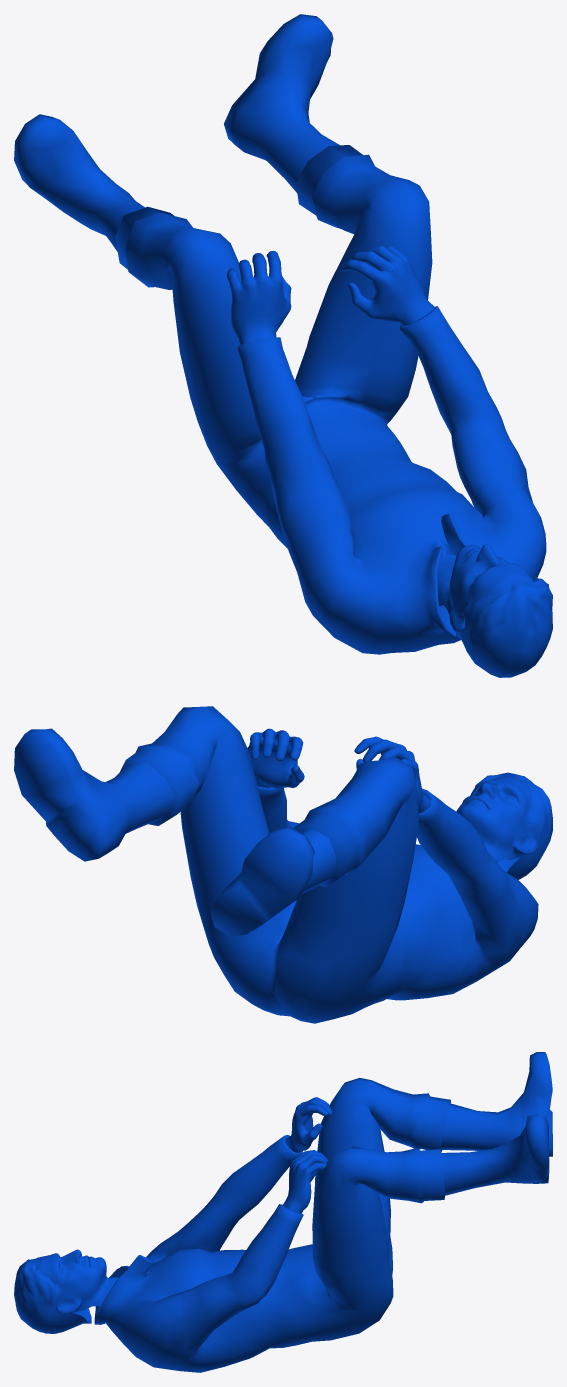
Rendered from FurnitureMarkerSit.obj.
3 renders of one model, top to bottom at view 1: azimuth 30°, elevation 25°; view 2: azimuth 150°, elevation 25°; view 3: azimuth 270°, elevation 25°, orthographic. The views are drawn at different scales.
Parts seen in each view (by area): view 1: FurnitureMarkerSit:0; view 2: FurnitureMarkerSit:0; view 3: FurnitureMarkerSit:0.
Part boxes in pixels (x1,y1,x2,y2): FurnitureMarkerSit:0: [14, 14, 552, 677]; FurnitureMarkerSit:0: [14, 706, 552, 1023]; FurnitureMarkerSit:0: [14, 1052, 552, 1372].
Size of the model in its own units: 47.62 by 59.45 by 101.
